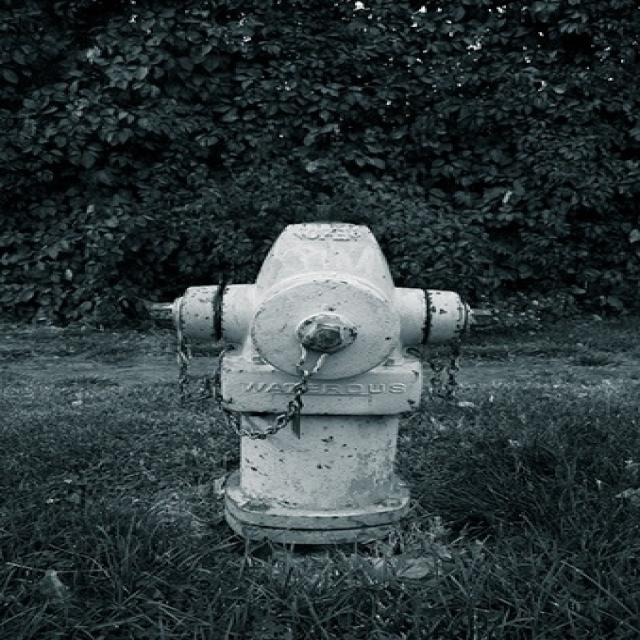fire_hydrant: (140, 199, 484, 548)
